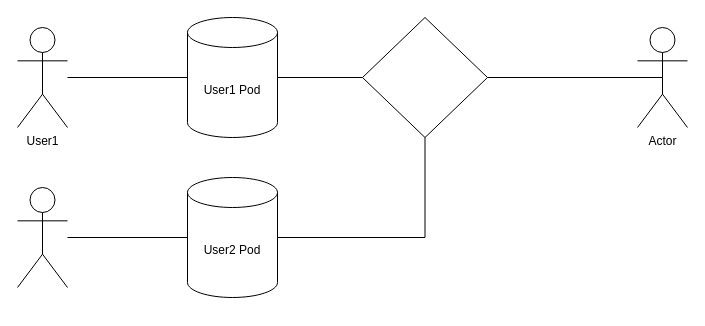
The diagram is 705 pixels wide and 326 high, and some of its shapes have lost their labels. The shapes that lost their labels are listed below. From the top down, each one's box as (x1, y1, x2, y2) in pixels, then its label:
(362, 16, 488, 138): Radarin
(16, 186, 68, 288): User2
